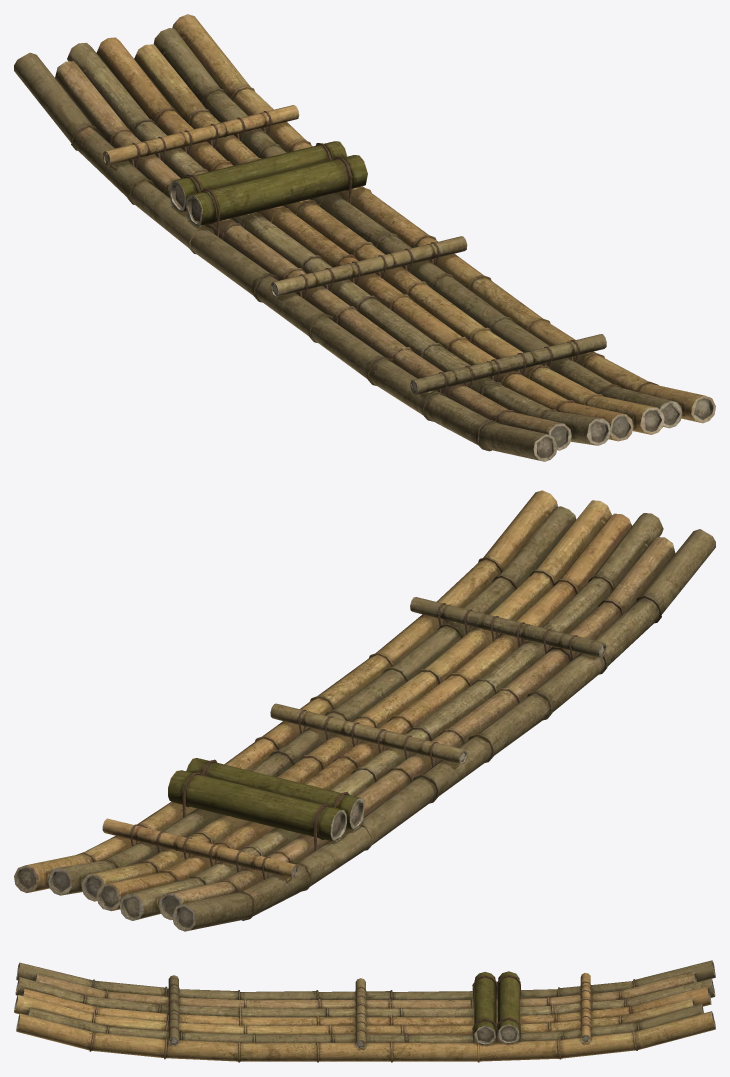
The model's file is Raft.glb.
The picture shows the model from 3 angles, top to bottom: view 1: azimuth 30°, elevation 25°; view 2: azimuth 150°, elevation 25°; view 3: azimuth 270°, elevation 25°; orthographic projection. The views are drawn at different scales.
Parts seen in each view (by area): view 1: 3d66-Editable_Poly-20077105-001; view 2: 3d66-Editable_Poly-20077105-001; view 3: 3d66-Editable_Poly-20077105-001.
Boxes of the visible parts, <box> form: 3d66-Editable_Poly-20077105-001: <box>14,14,715,461</box>; 3d66-Editable_Poly-20077105-001: <box>14,490,715,931</box>; 3d66-Editable_Poly-20077105-001: <box>14,960,715,1062</box>.
Size of the model in its own units: 0.7545 by 0.2828 by 3.63.
1 material, 1 textured.
